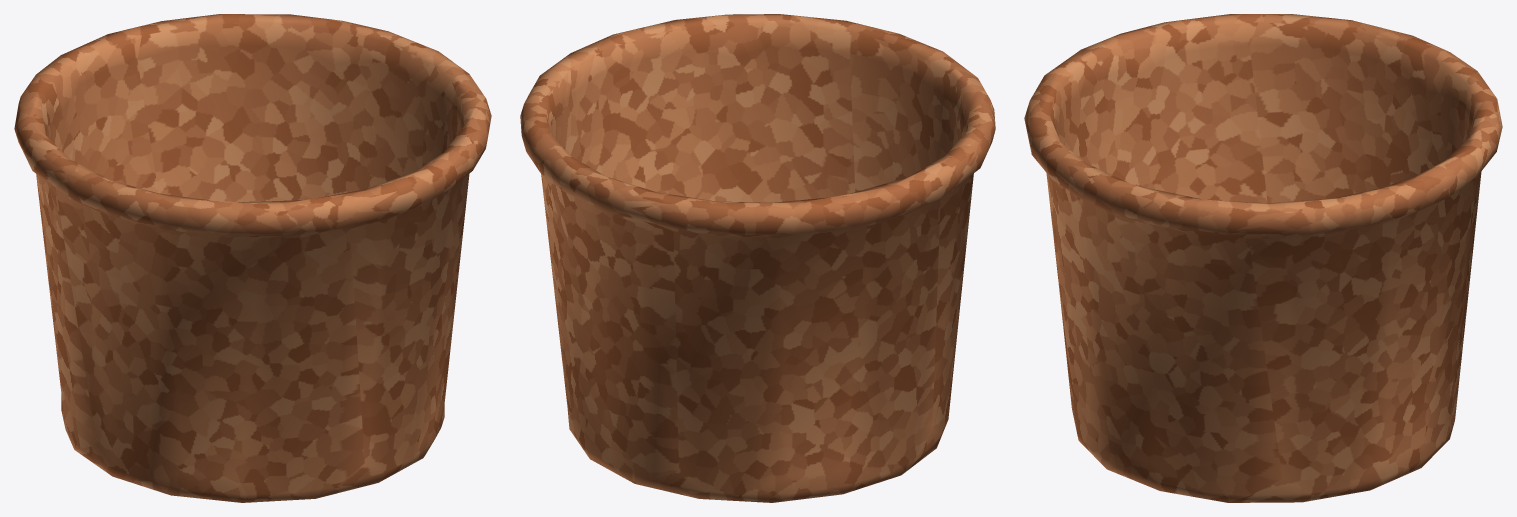
File: copper-cap_low.fbx
3 renders of one model, left to right at view 1: azimuth 30°, elevation 25°; view 2: azimuth 150°, elevation 25°; view 3: azimuth 270°, elevation 25°, orthographic.
Visible parts, largest first — view 1: copper-cap; view 2: copper-cap; view 3: copper-cap.
Part boxes in pixels (x1,y1,x2,y2): copper-cap: (14,14,491,502); copper-cap: (520,14,995,502); copper-cap: (1024,14,1502,502).
Size of the model in its own units: 13.22 by 13.22 by 9.8.
Materials: 1 (1 with a texture image).
